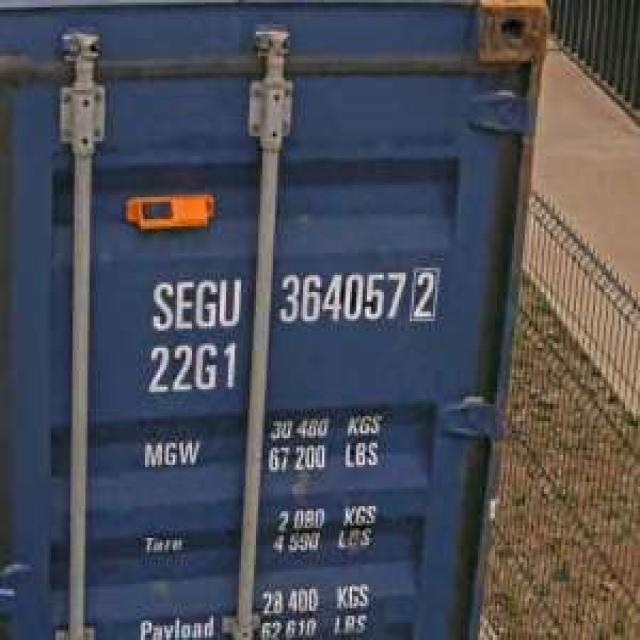dv: (407, 260, 444, 326)
owner: (143, 270, 243, 333)
serial: (275, 263, 407, 331)
size: (141, 338, 239, 399)
